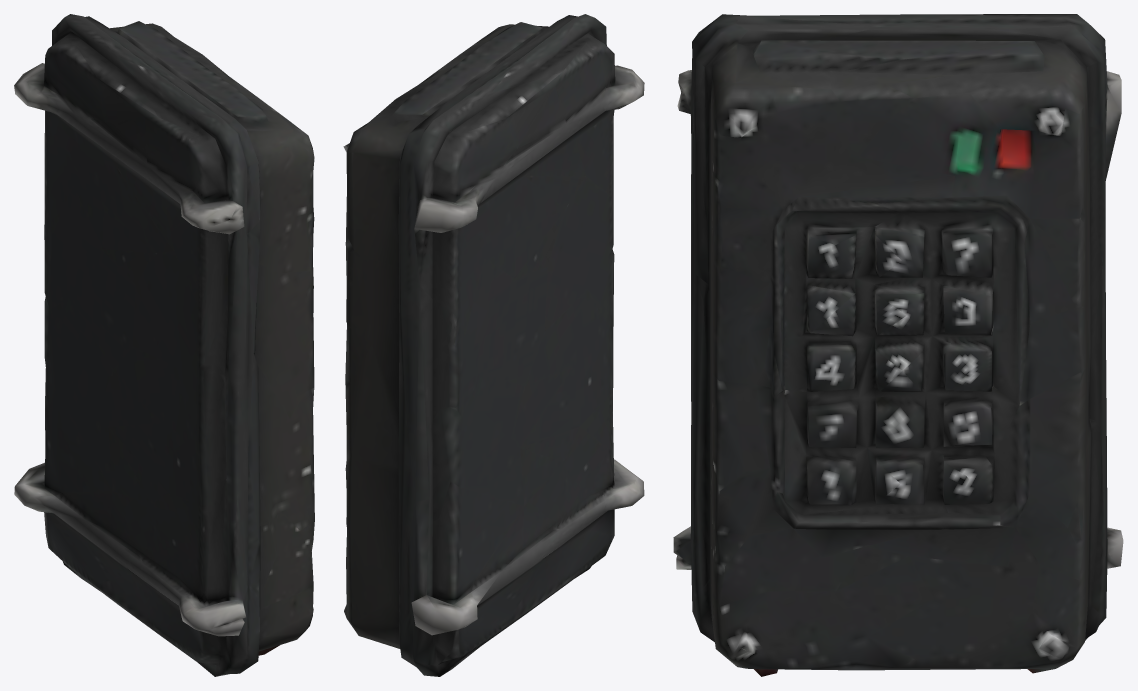
Rendered from code_lock.56e7de485a.glb.
3 views of the same model, side by side, from view 1: azimuth 30°, elevation 25°; view 2: azimuth 150°, elevation 25°; view 3: azimuth 270°, elevation 25° (orthographic). The views are drawn at different scales.
Parts seen in each view (by area): view 1: code_lock; view 2: code_lock; view 3: code_lock.
Part boxes in pixels (<box>): code_lock: <box>14,14,314,676</box>; code_lock: <box>343,14,644,676</box>; code_lock: <box>673,14,1123,676</box>.
Bounding box in the file's own units: 0.0419 × 0.15 × 0.0971.
Materials: 1 (1 with a texture image).
